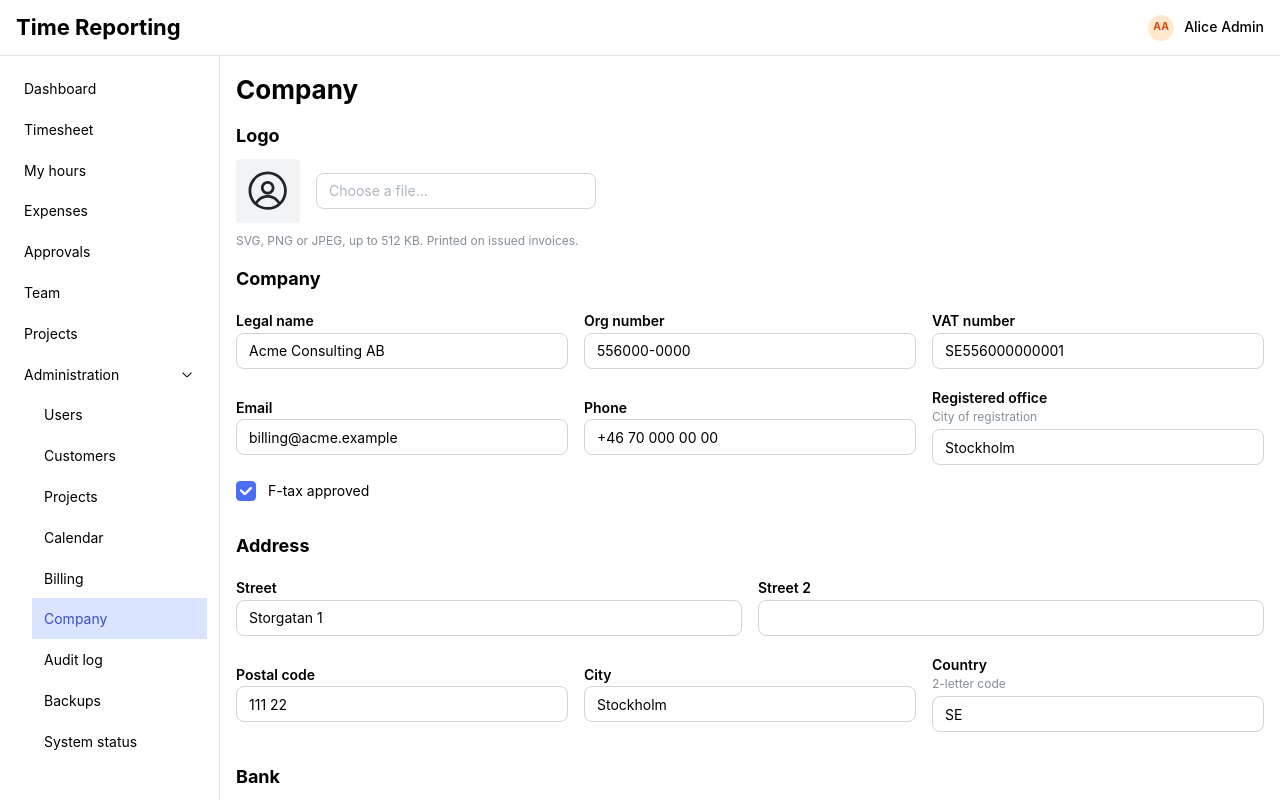
AdminCompanyPage › saves changes to the form
Replace the text in the field labelled "Legal name" with "New Legal Name": [402, 351] box [236, 333, 568, 369]
(page scrolled)
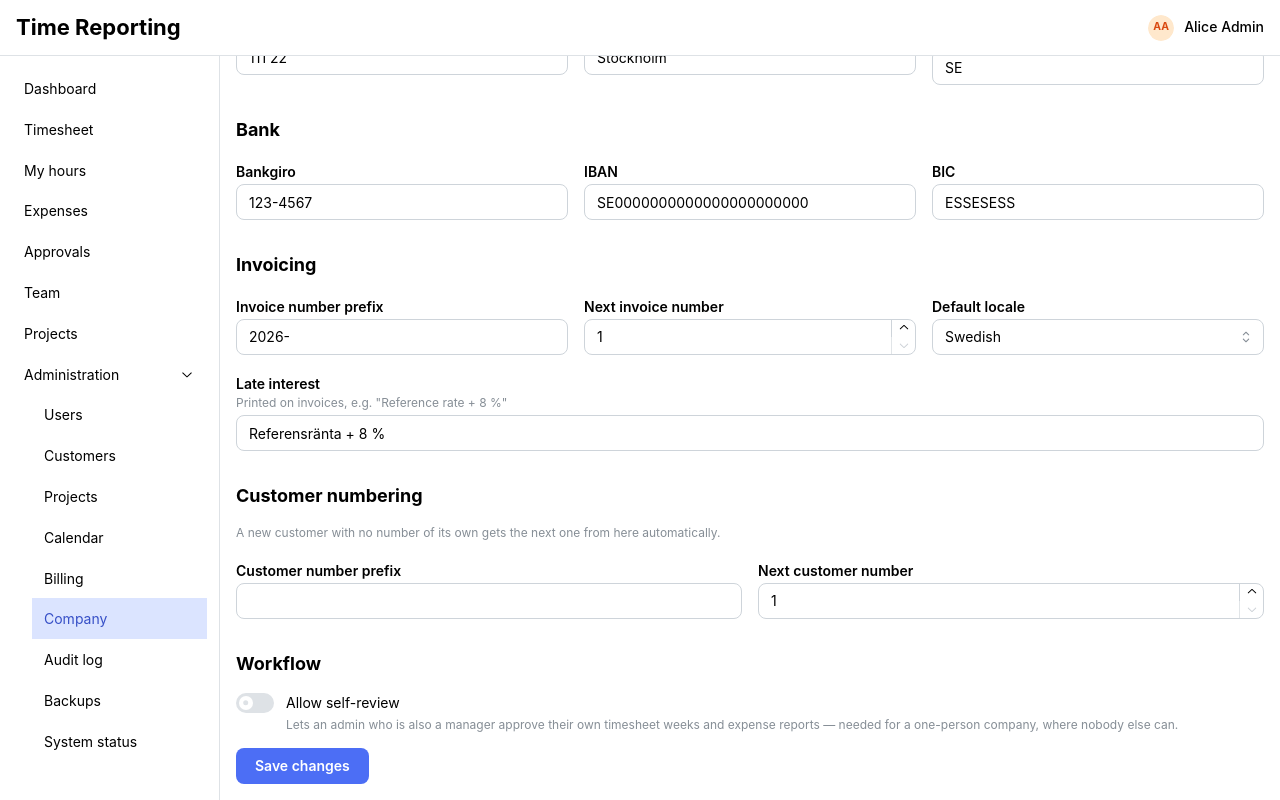
Click the button "Save changes": [302, 766] box [236, 748, 369, 784]
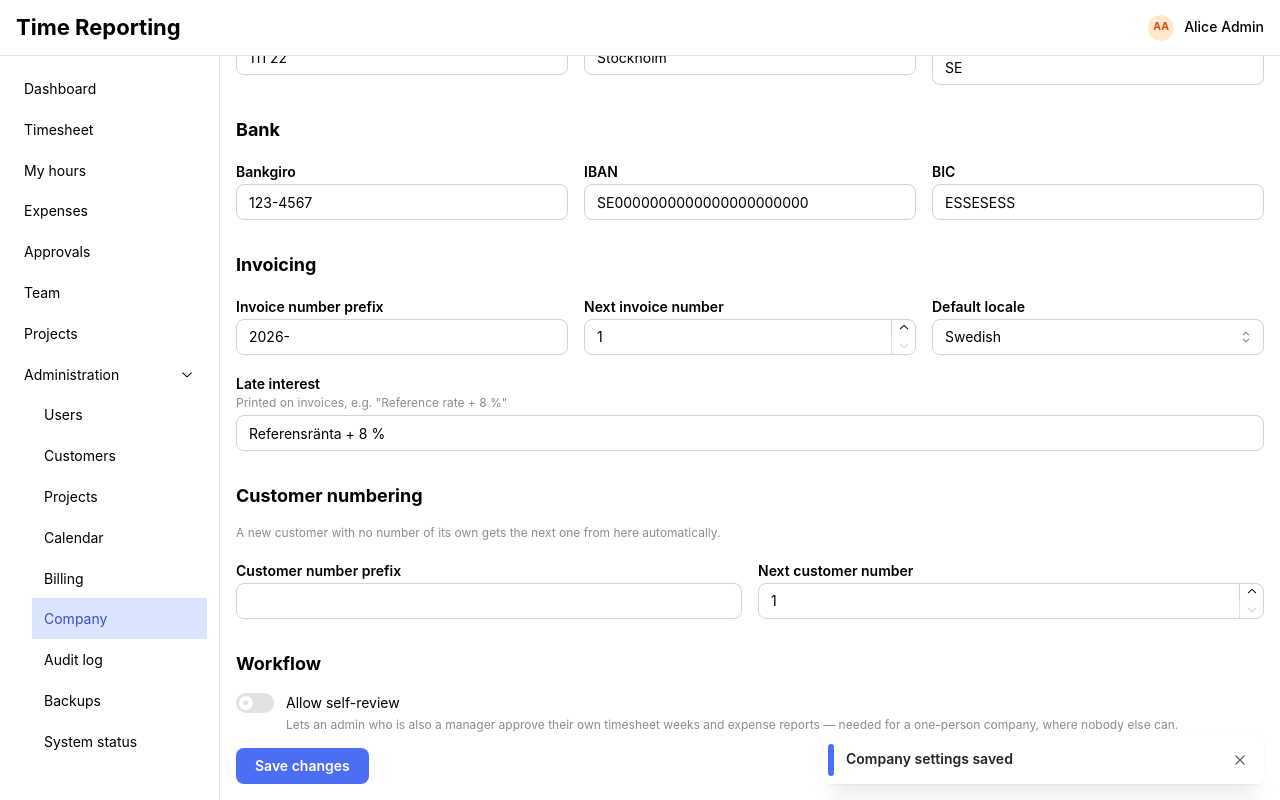
Expected: the text "Company settings saved" is shown, [846, 750, 1013, 767]
